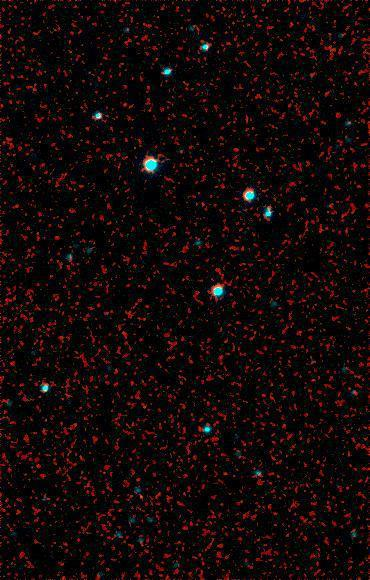star: (128, 487, 158, 517)
